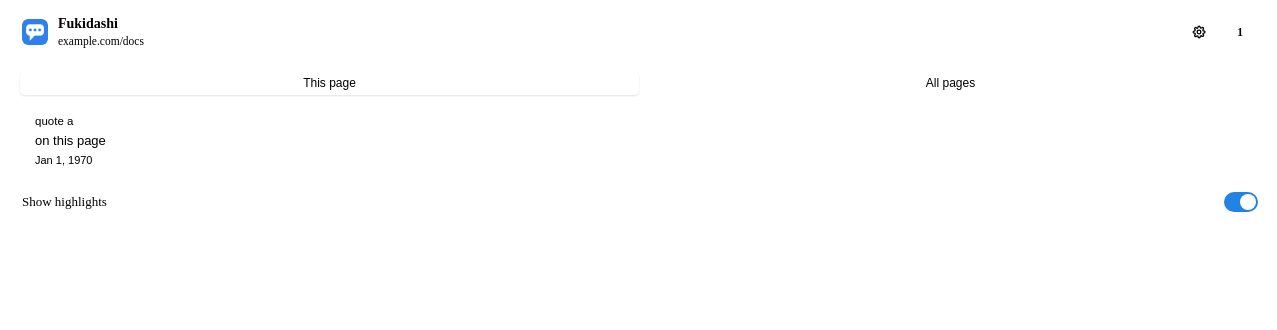
Test case: popup › drills from a page in the site list into its notes
What coordinates should you click on to do the following:
click the button "All pages"
I would click on:
 (950, 83)
Its box is [641,71,1260,95].
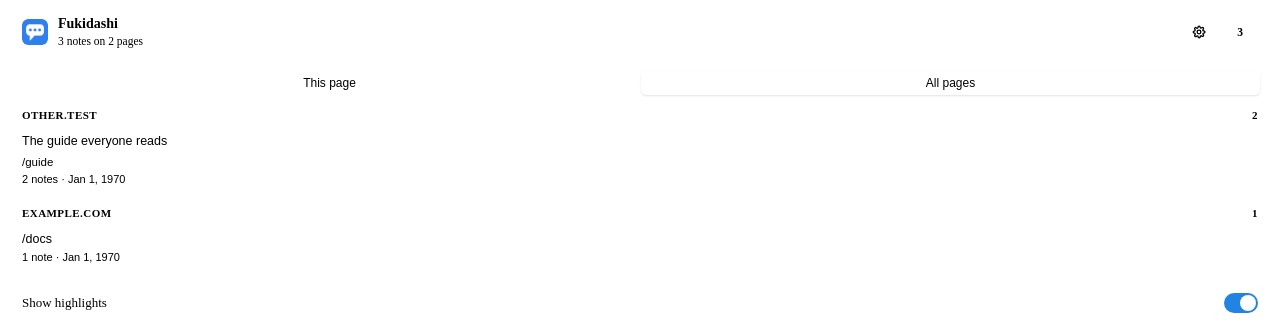
What coordinates should you click on to do the following:
click the button with class "fk-list__button" that starts with "The guide everyone reads"
I would click on:
 (95, 141)
Its box is [14,125,1234,193].
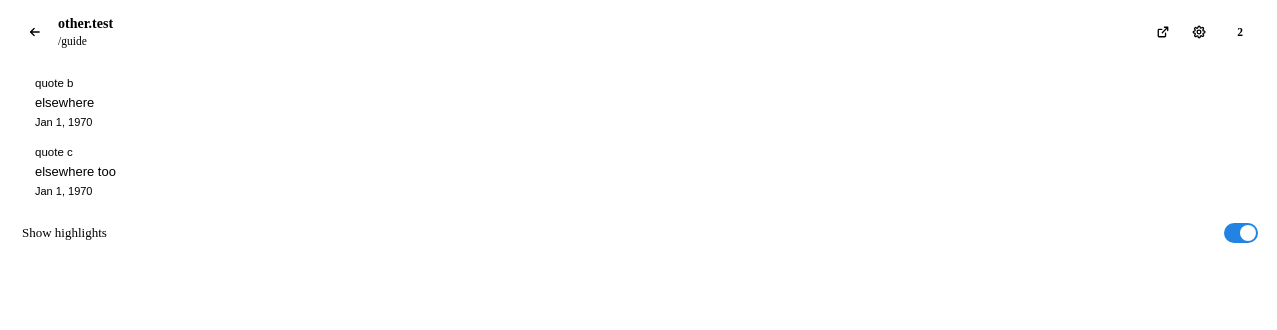
Check: the heading with class "fk-popup__title" reads "other.test", box [58,16,113,31]
